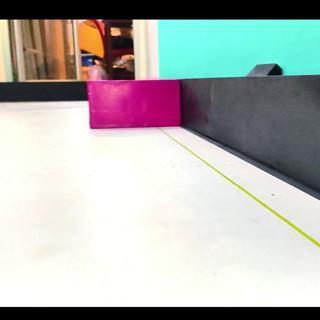xparking: (90, 83, 172, 127)
